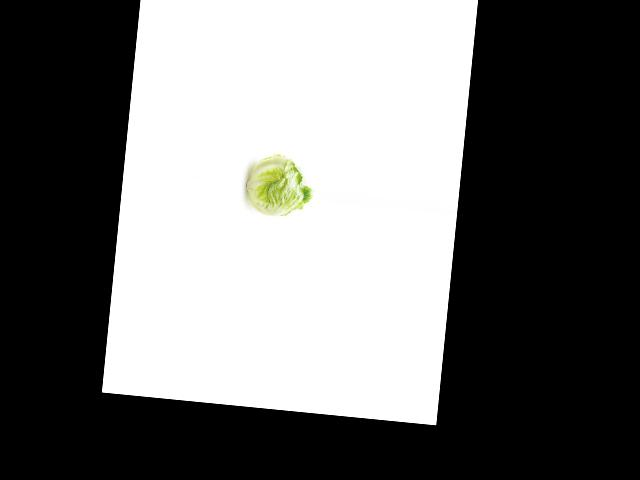lettuce: (240, 145, 317, 222)
